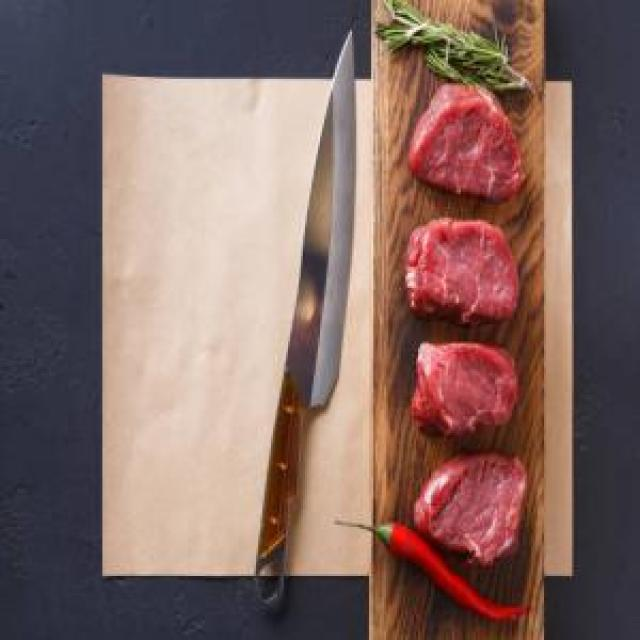knife: (254, 28, 358, 614)
